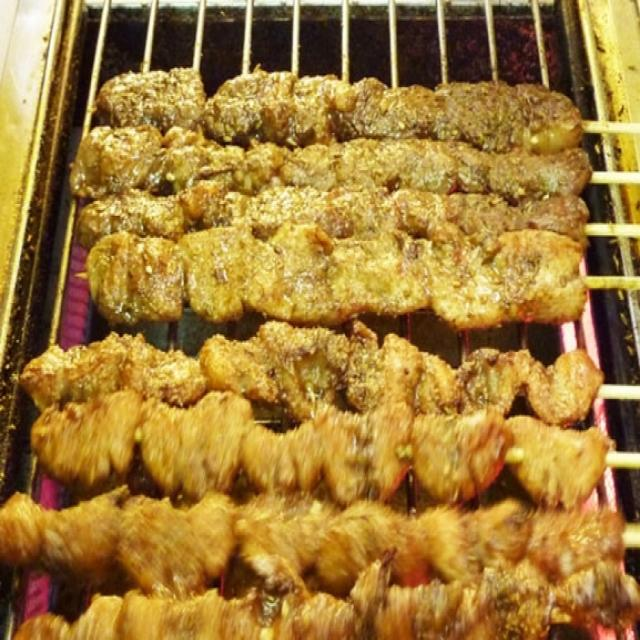烧串烤肉: (16, 21, 616, 624)
